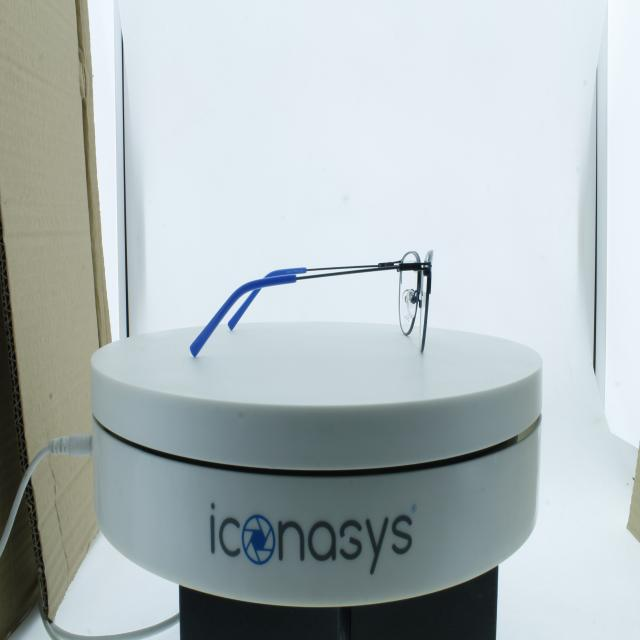Specs: (169, 225, 445, 382)
